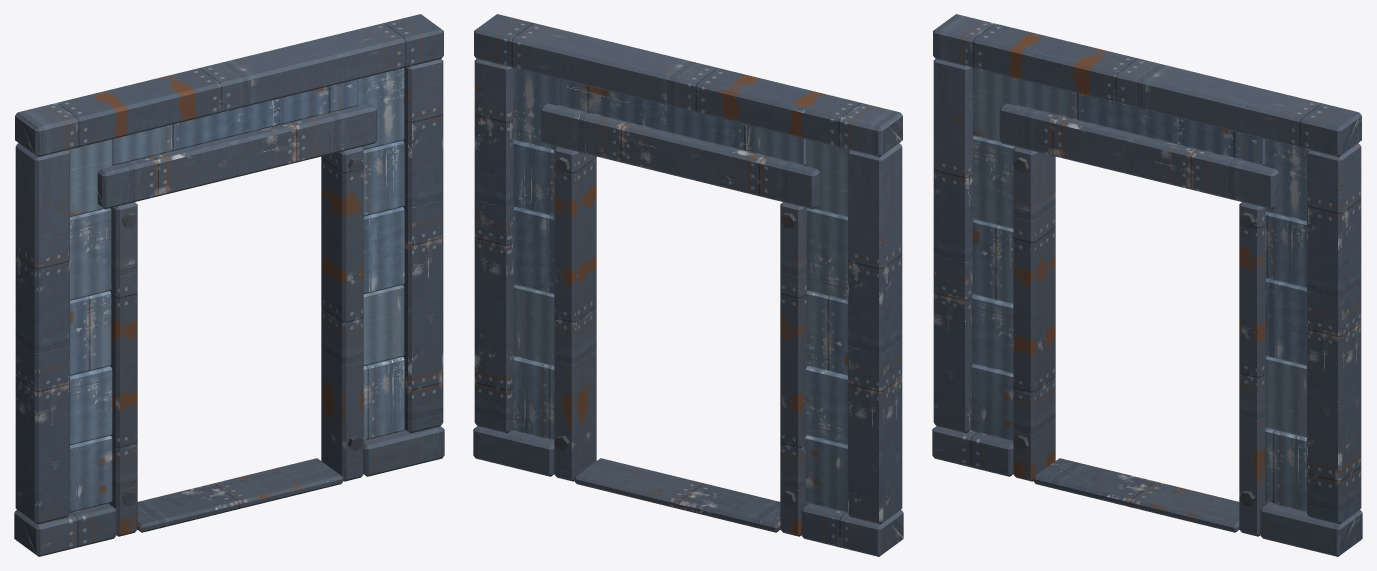
The model's file is kapi_kasasi.glb.
3 renders of one model, left to right at view 1: azimuth 30°, elevation 25°; view 2: azimuth 150°, elevation 25°; view 3: azimuth 330°, elevation 25°, orthographic.
Visible parts, largest first — view 1: kapi_kasasi; view 2: kapi_kasasi; view 3: kapi_kasasi.
Boxes of the visible parts, <box> form: kapi_kasasi: <box>14,14,444,556</box>; kapi_kasasi: <box>473,14,903,556</box>; kapi_kasasi: <box>932,14,1362,556</box>.
Bounding box in the file's own units: 3 × 3.01 × 0.37.
Materials: 1 (1 with a texture image).
